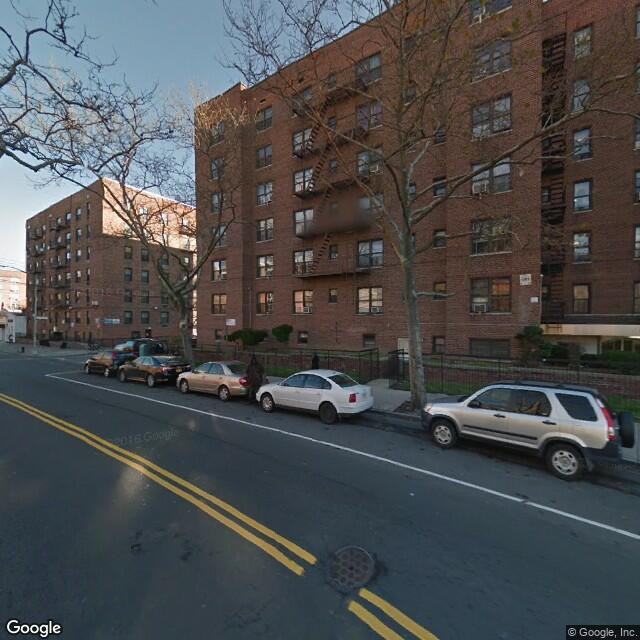litter: (410, 492, 413, 494)
